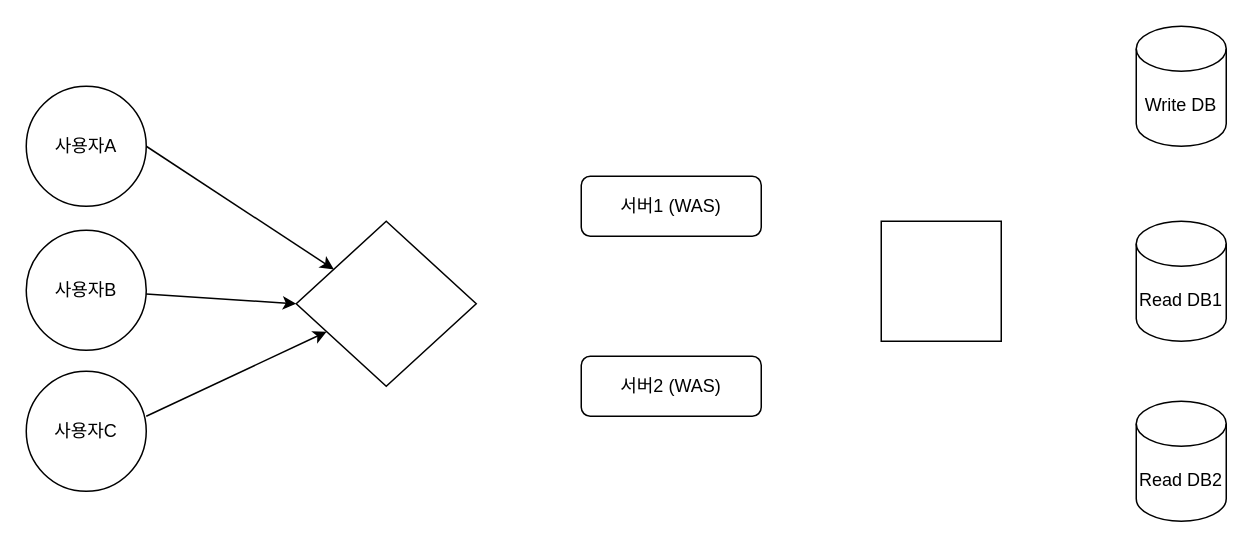
Some shapes in this 1253 by 548 pixel diagram are drawn without their labels. Here are the shapes that lost their labels. From the top down, the box of each, then its label:
(880, 220, 1001, 341): Redis
(295, 220, 476, 386): 웹서버 + 로드밸런싱 + 인증
